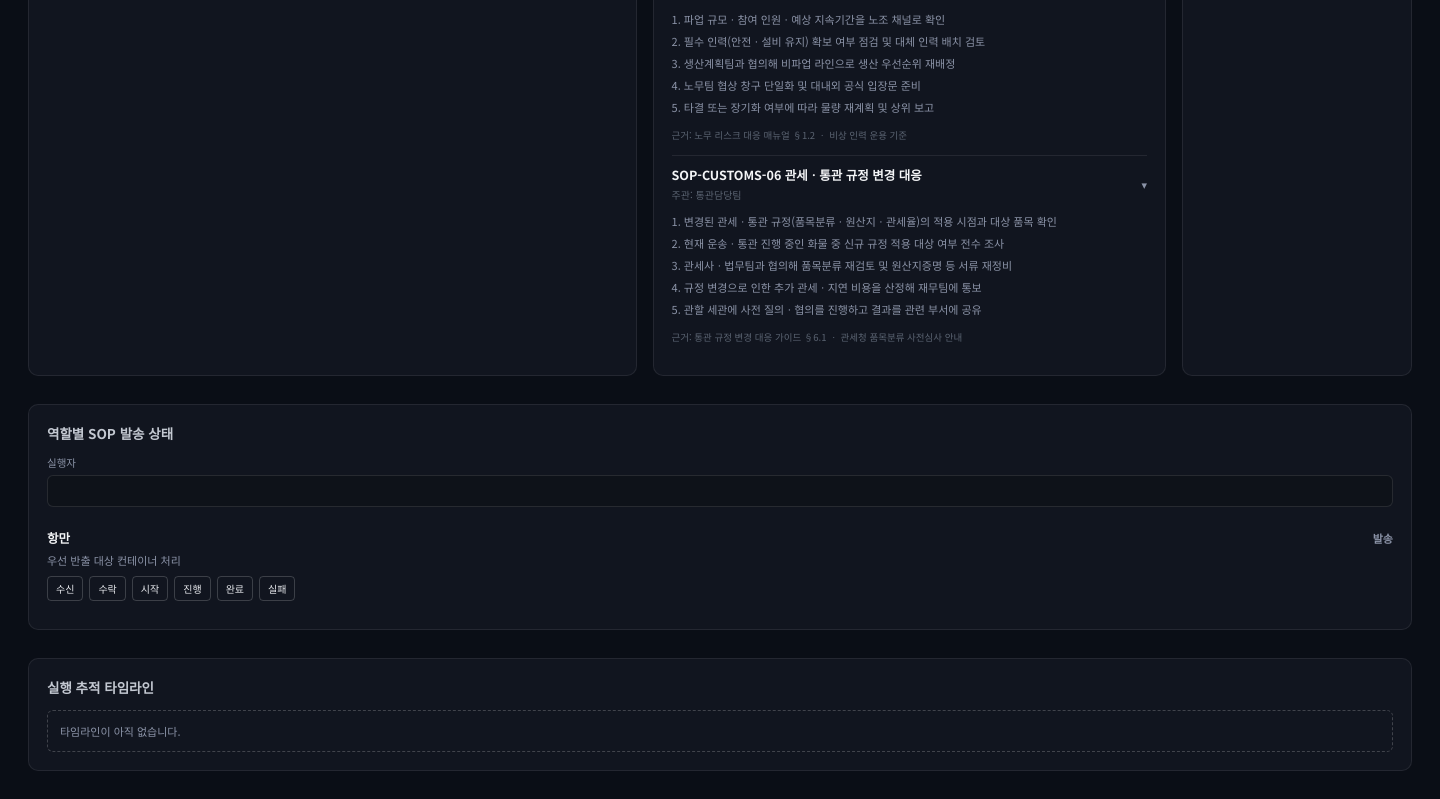
IncidentDetailPage — SOP 상태 전이 및 타임라인 › 편차가 감지되면(deviation_check 존재) DAG·후보·의사결정 패키지도 다시 불러온다
The image size is (1440, 799).
(page scrolled)
expect the text "항만" is shown: met, box [47,529,70,548]
Step 1. Type "박현장" into the field labelled "실행자" → (720, 491), box [47,475,1393,507]
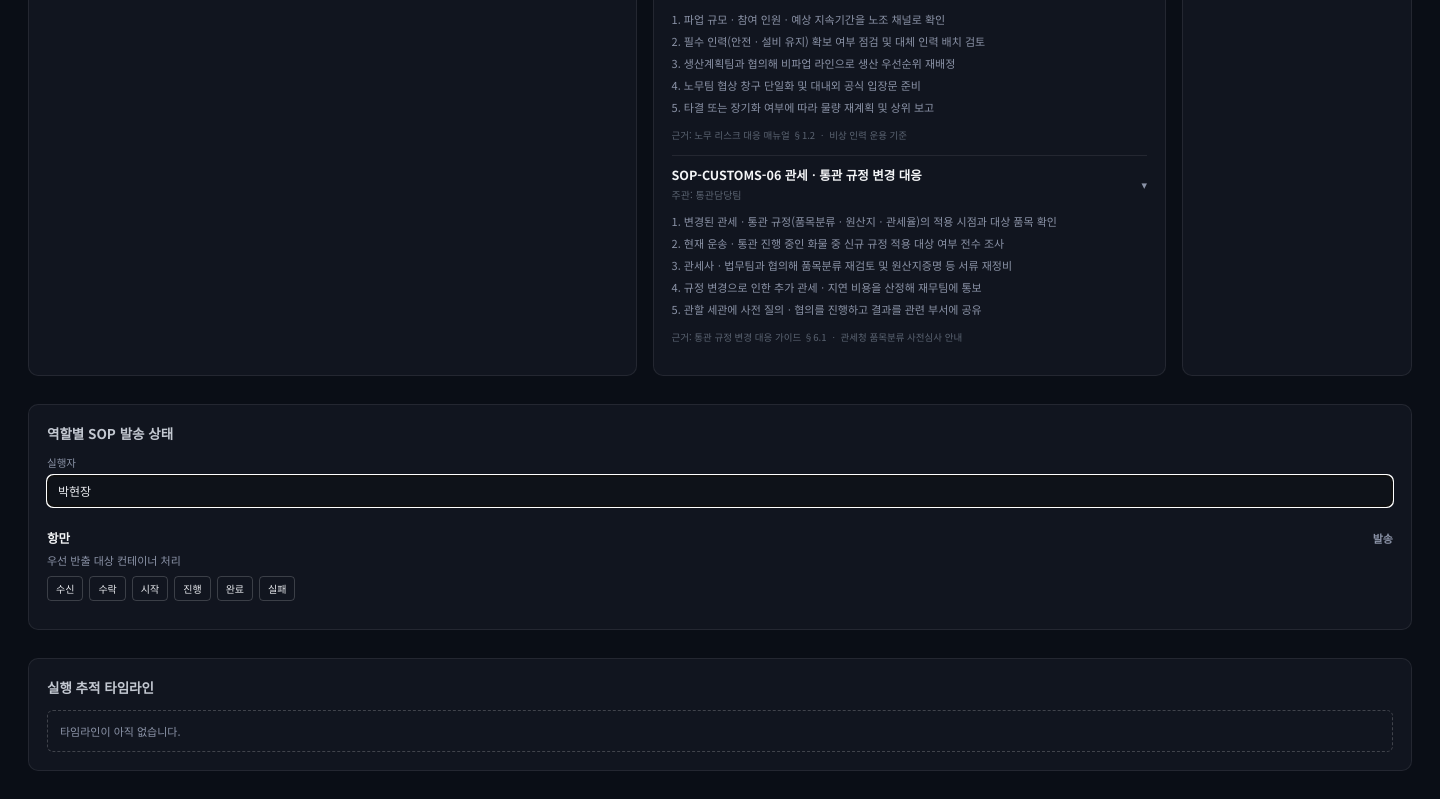
Step 2. Click the button "실패" → (277, 589), box [259,576,295,601]
(page scrolled)
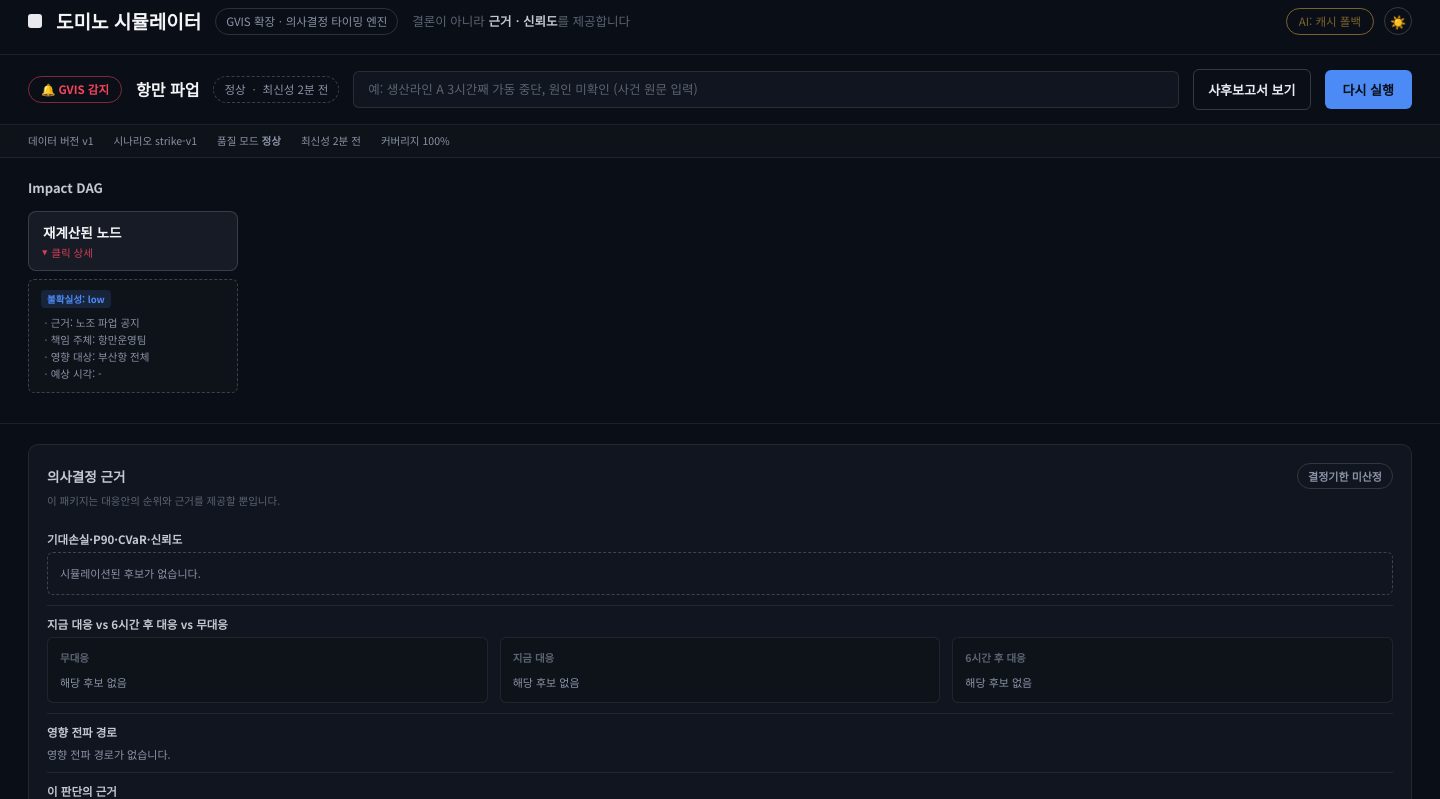
expect the text "재계산된 노드" is shown: met, box [43,222,121,242]
